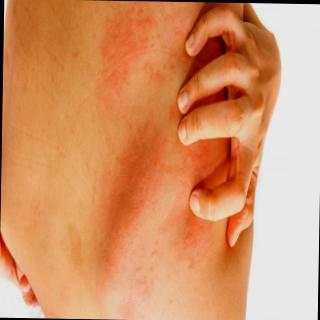urticaria: (101, 15, 152, 76), (126, 133, 168, 174), (131, 259, 162, 300), (105, 192, 133, 225), (183, 252, 211, 269)
